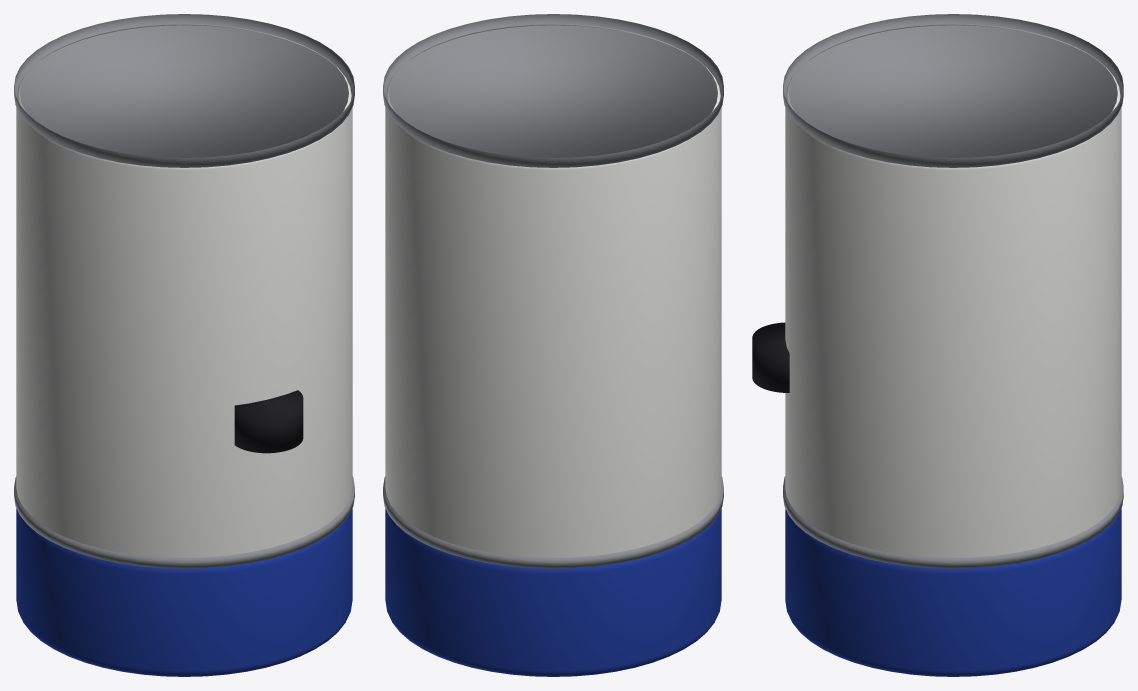
File: KG_Pedestal.fbx
3 renders of one model, left to right at view 1: azimuth 30°, elevation 25°; view 2: azimuth 150°, elevation 25°; view 3: azimuth 270°, elevation 25°, orthographic.
Visible parts, largest first — view 1: KG_Pedestal; view 2: KG_Pedestal; view 3: KG_Pedestal.
Boxes of the visible parts, x1,y1,x2,y2 form: KG_Pedestal: [14, 14, 354, 676]; KG_Pedestal: [383, 14, 723, 676]; KG_Pedestal: [752, 14, 1123, 676].
Size of the model in its own units: 0.0932 by 0.158 by 0.1016.
